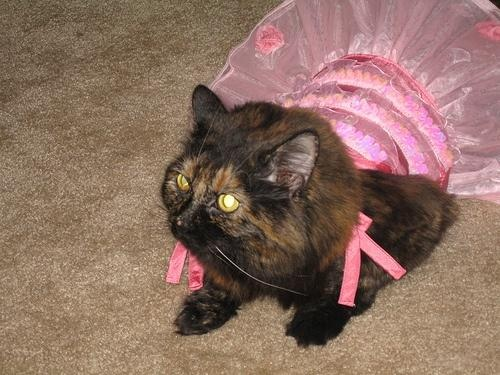cat: (160, 83, 461, 347)
